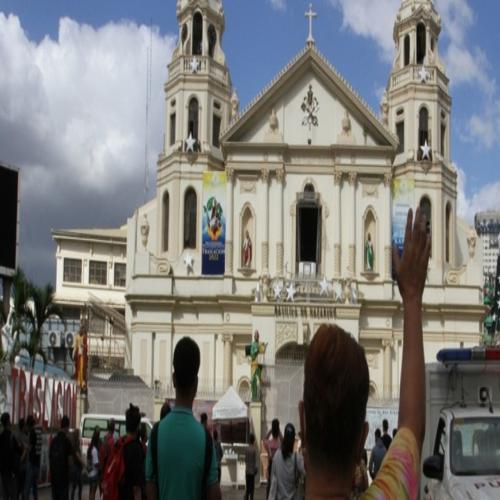Quiapo Church: (95, 2, 475, 408)
